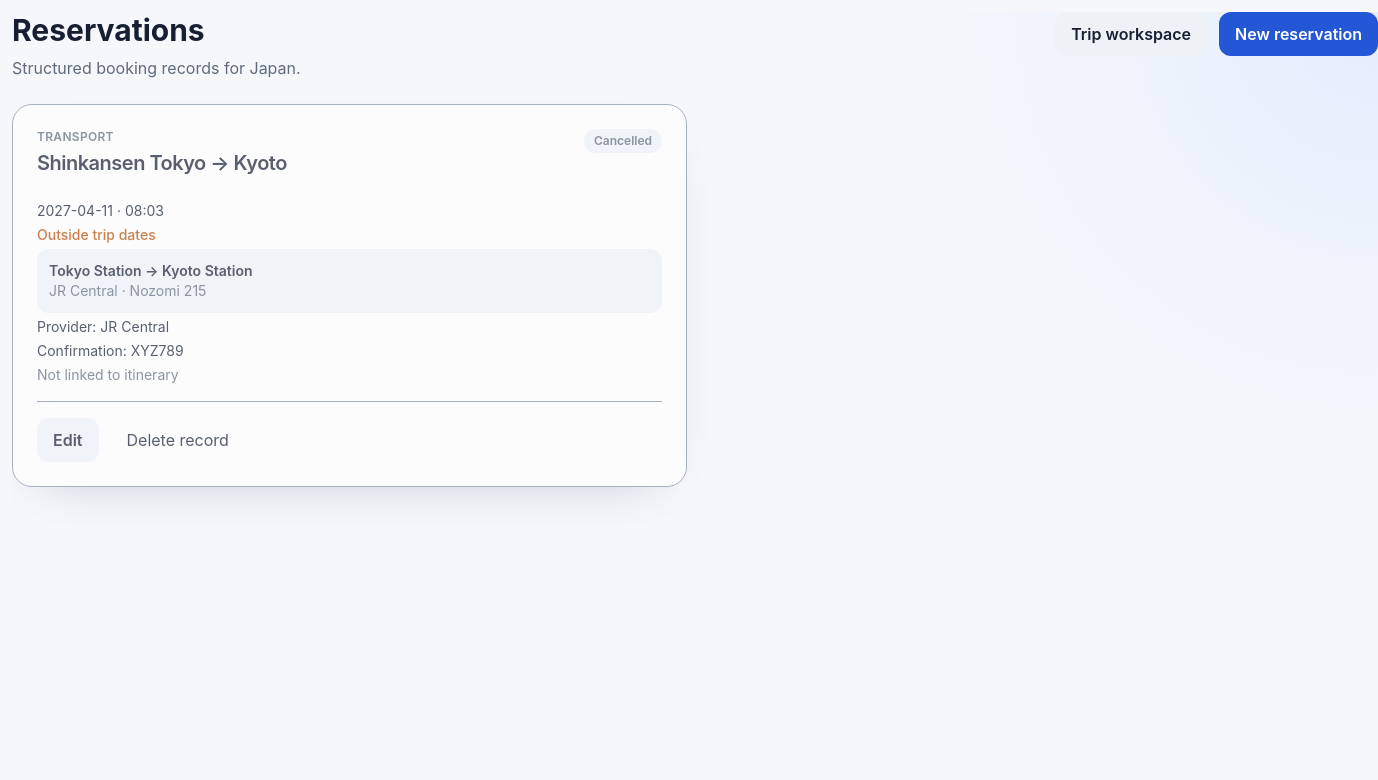
Test: ReservationsScreen › distinguishes delete, supports cancelled confirmation, and reports failure
Click the button "Delete record" at point(178, 440), box [106, 418, 249, 462]
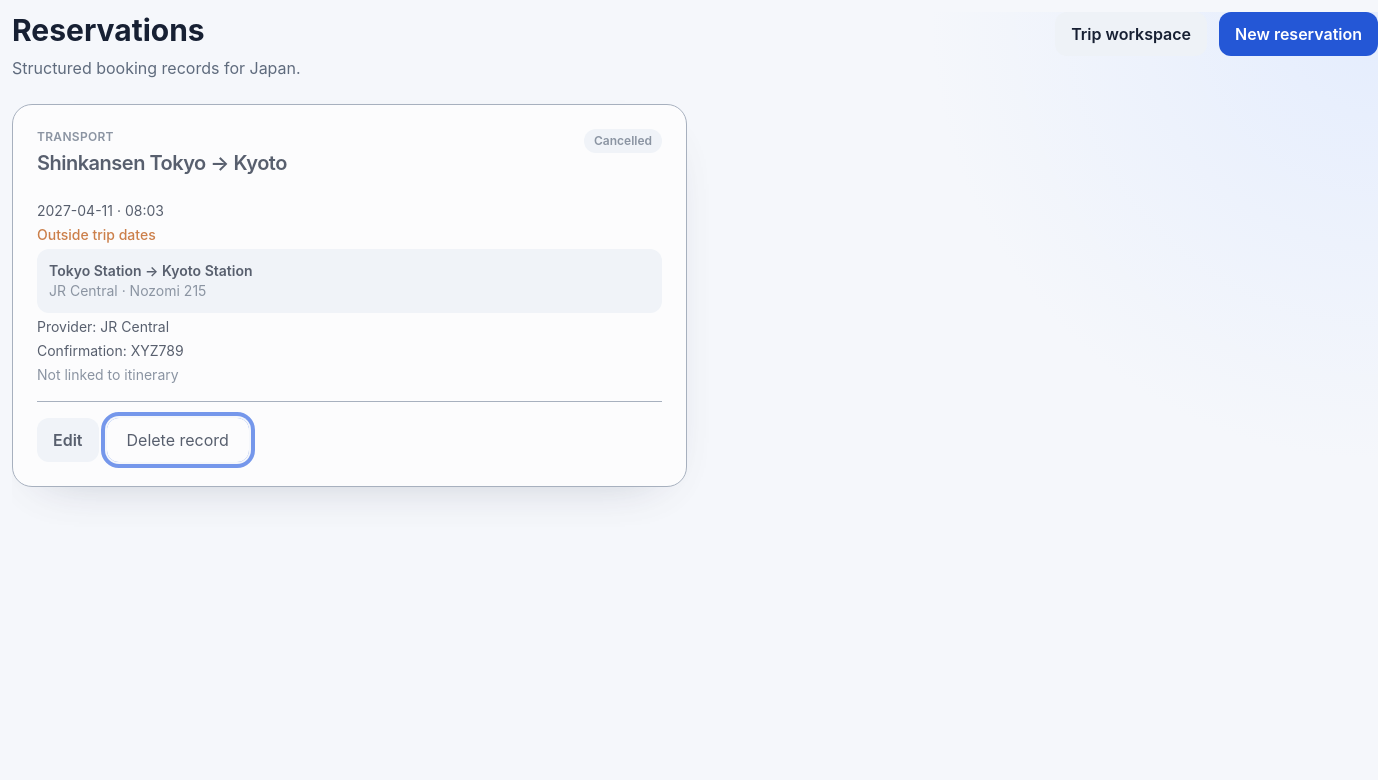
Click the button "Delete record" at point(178, 440), box [106, 418, 249, 462]
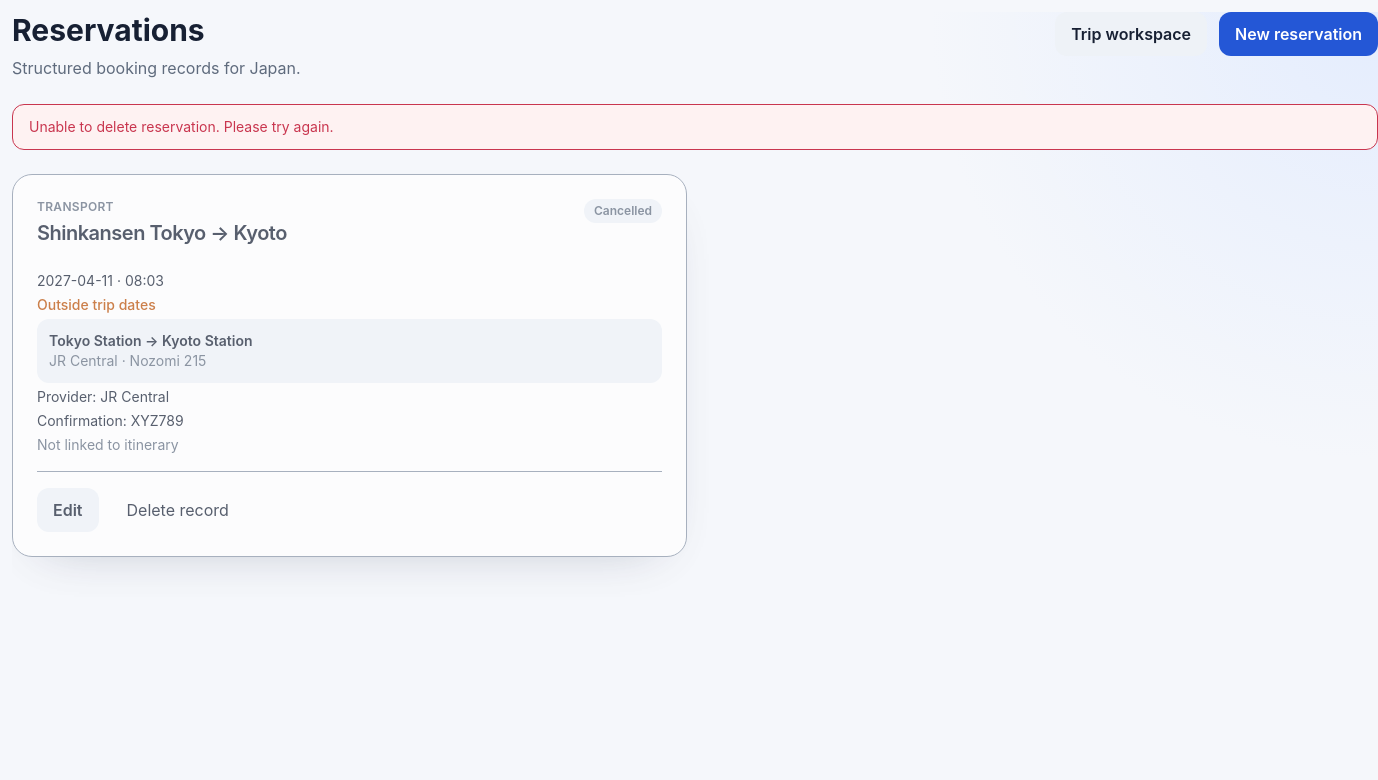
Result: the message shows "Unable to delete reservation" at [29, 118, 334, 135]
